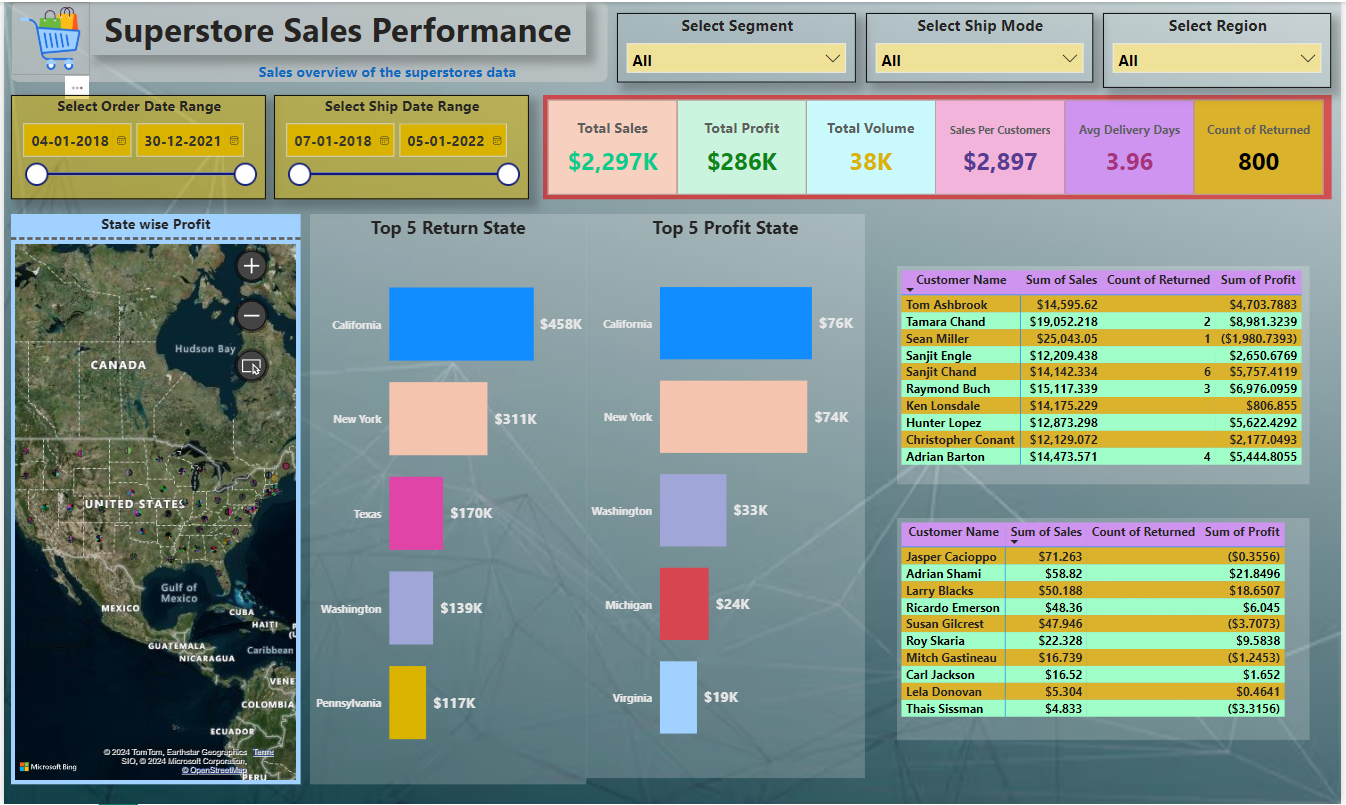

This screenshot's page, from the dashboard's own definition file:
{"tool":"powerbi","page":{"name":"Superdtore Sales Performance","canvas":[1500,900],"ordinal":0},"visuals":[{"type":"shape","box":[8.2,0,669.7,89.8],"z":0},{"type":"textbox","box":[96.6,0,556.7,58.5],"z":1000},{"type":"textbox","box":[255.9,61.3,348.5,39.5],"z":2000},{"type":"image","box":[8.2,0,88.5,81.7],"z":3000},{"type":"cardVisual","fields":{"Data":["Orders.Sales","Orders.Profit","Orders.Quantity","Key Measure.Sales_Per_Customers","Key Measure.Avg Delivery Days","Returns2.Returned"]},"box":[604.4,104.8,884.8,117.1],"z":4000},{"type":"slicer","title":"Select Order Date Range","fields":{"Values":["Orders.Order Date"]},"box":[8.2,104.8,285.8,117.1],"z":5000},{"type":"slicer","title":"Select Segment","fields":{"Values":["Orders.Segment"]},"box":[687.4,12.3,268.1,77.6],"z":6000},{"type":"slicer","title":"Select Ship Mode","fields":{"Values":["Orders.Ship Mode"]},"box":[967.8,12.3,254.5,77.6],"z":7000},{"type":"slicer","title":"Select Region","fields":{"Values":["Orders.Region"]},"box":[1233.2,12.3,255.9,84.4],"z":8000},{"type":"map","title":"State wise Profit","fields":{"Series":["Orders.Profit"],"Category":["Orders.State"]},"box":[8.2,238.2,325.3,639.7],"z":9000},{"type":"barChart","title":"Top 5 Return State","fields":{"Y":["Orders.Sales"],"Category":["Orders.State"]},"box":[343,238.2,310.3,639.7],"z":10000},{"type":"barChart","title":"Top 5 Profit State","fields":{"Y":["Orders.Profit"],"Category":["Orders.State"]},"box":[653.4,238.2,313.1,632.9],"z":11000},{"type":"slicer","title":"Select Ship Date Range","fields":{"Values":["Orders.Ship Date"]},"box":[303.5,104.8,285.8,117.1],"z":12000},{"type":"pivotTable","fields":{"Rows":["Orders.Customer Name"],"Values":["Orders.Sales","Returns2.Returned","Orders.Profit"]},"box":[1001.8,296.7,462.8,245],"z":13000},{"type":"pivotTable","fields":{"Rows":["Orders.Customer Name"],"Values":["Orders.Sales","Returns2.Returned","Orders.Profit"]},"box":[1001.8,578.5,462.8,249.1],"z":14000}]}

Visuals, with their boxes in screenshot pixels (x1, y1, x2, y2), scaled from the page's 1500x900 canvas onto the 1346x805 screenshot:
shape: 7 0 608 80
textbox: 87 0 586 52
textbox: 230 55 542 90
image: 7 0 87 73
cardVisual - Orders.Sales x Orders.Profit: 542 94 1336 198
"Select Order Date Range" slicer: 7 94 264 198
"Select Segment" slicer: 617 11 857 80
"Select Ship Mode" slicer: 868 11 1097 80
"Select Region" slicer: 1107 11 1336 86
"State wise Profit" map: 7 213 299 785
"Top 5 Return State" barChart: 308 213 586 785
"Top 5 Profit State" barChart: 586 213 867 779
"Select Ship Date Range" slicer: 272 94 529 198
pivotTable - Orders.Customer Name x Orders.Sales: 899 265 1314 485
pivotTable - Orders.Customer Name x Orders.Sales: 899 517 1314 740
